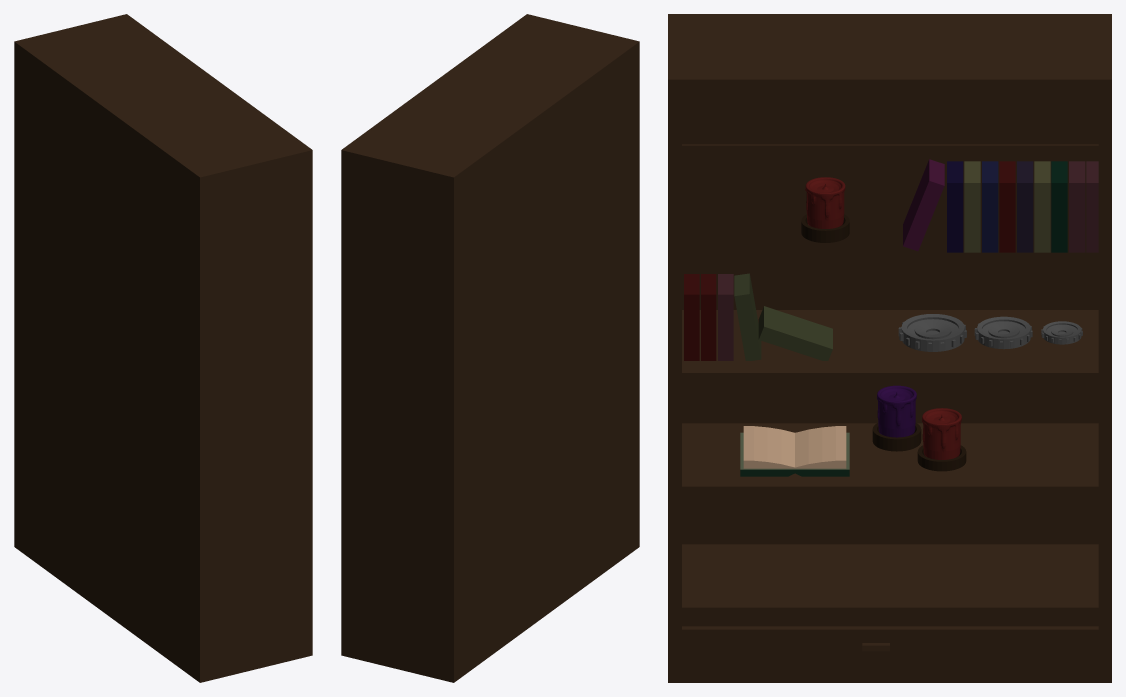
File: vitrine.glb
3 renders of one model, left to right at view 1: azimuth 30°, elevation 25°; view 2: azimuth 150°, elevation 25°; view 3: azimuth 270°, elevation 25°, orthographic. The views are drawn at different scales.
Visible parts, largest first — view 1: Cube; view 2: Cube; view 3: Cube, Cube.003, Cube.016, Cylinder, Cube.026, Cylinder.002, Cylinder.006, Cylinder.005, Cube.004, Cylinder.008, Cube.025, Cube.024 (+14 smaller).
Boxes of the visible parts, x1=… form: Cube: x1=14, y1=14, x2=312, y2=682; Cube: x1=341, y1=14, x2=639, y2=682; Cube: x1=668, y1=14, x2=1111, y2=682; Cube.003: x1=740, y1=426, x2=849, y2=476; Cube.016: x1=758, y1=306, x2=832, y2=360; Cylinder: x1=898, y1=314, x2=966, y2=351; Cube.026: x1=903, y1=159, x2=944, y2=251; Cylinder.002: x1=805, y1=177, x2=845, y2=228; Cylinder.006: x1=877, y1=385, x2=916, y2=437; Cylinder.005: x1=922, y1=408, x2=961, y2=459; Cube.004: x1=734, y1=273, x2=761, y2=360; Cylinder.008: x1=974, y1=316, x2=1032, y2=349; Cube.025: x1=947, y1=161, x2=963, y2=252; Cube.024: x1=964, y1=161, x2=980, y2=252.
Size of the model in its own units: 1.53 by 6 by 4.
